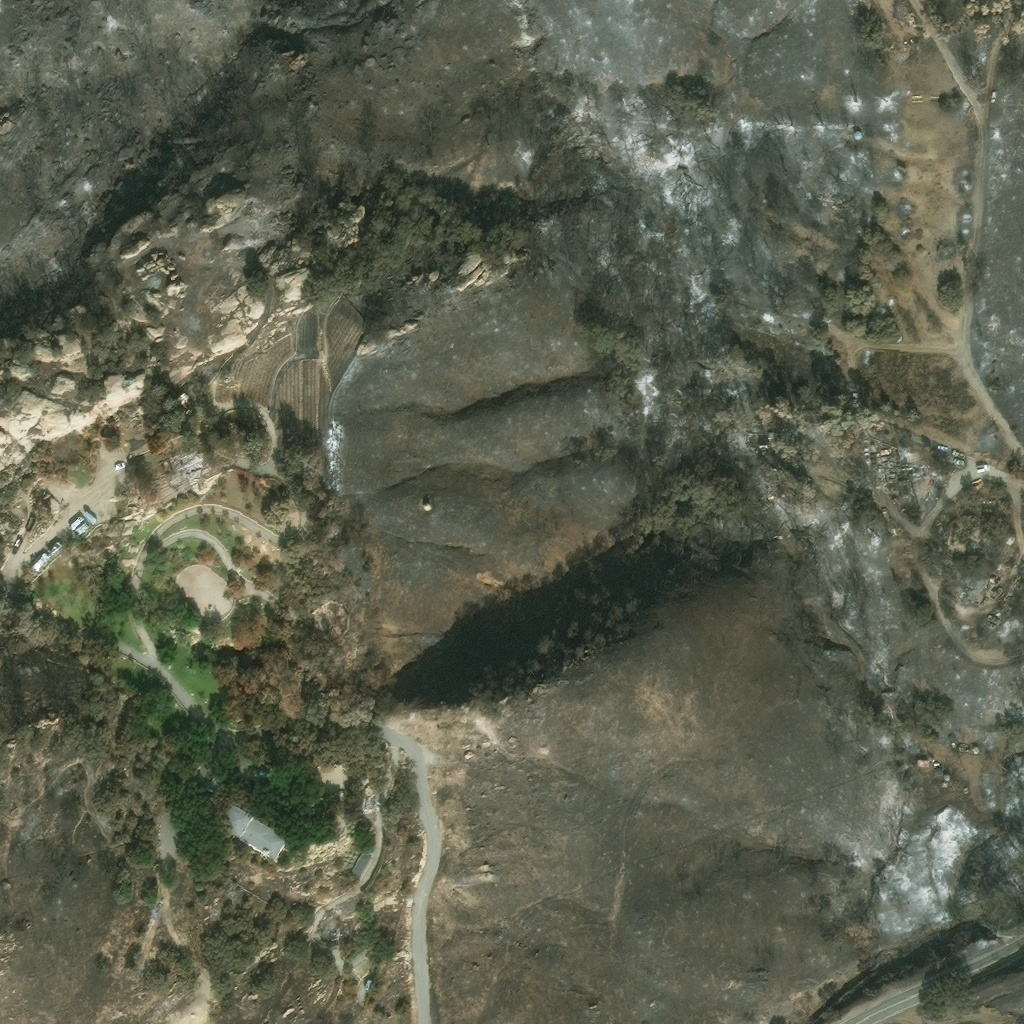0 no-damage: (217, 806, 289, 865), (350, 855, 370, 882), (851, 131, 862, 141), (422, 506, 431, 515)
1 minor-damage: (957, 743, 969, 753), (999, 558, 1009, 567), (971, 746, 980, 755)
3 destroyed: (878, 455, 926, 487), (174, 455, 205, 480), (749, 432, 775, 449), (898, 4, 909, 18), (720, 232, 731, 244)
4 un-classified: (0, 624, 5, 645)
